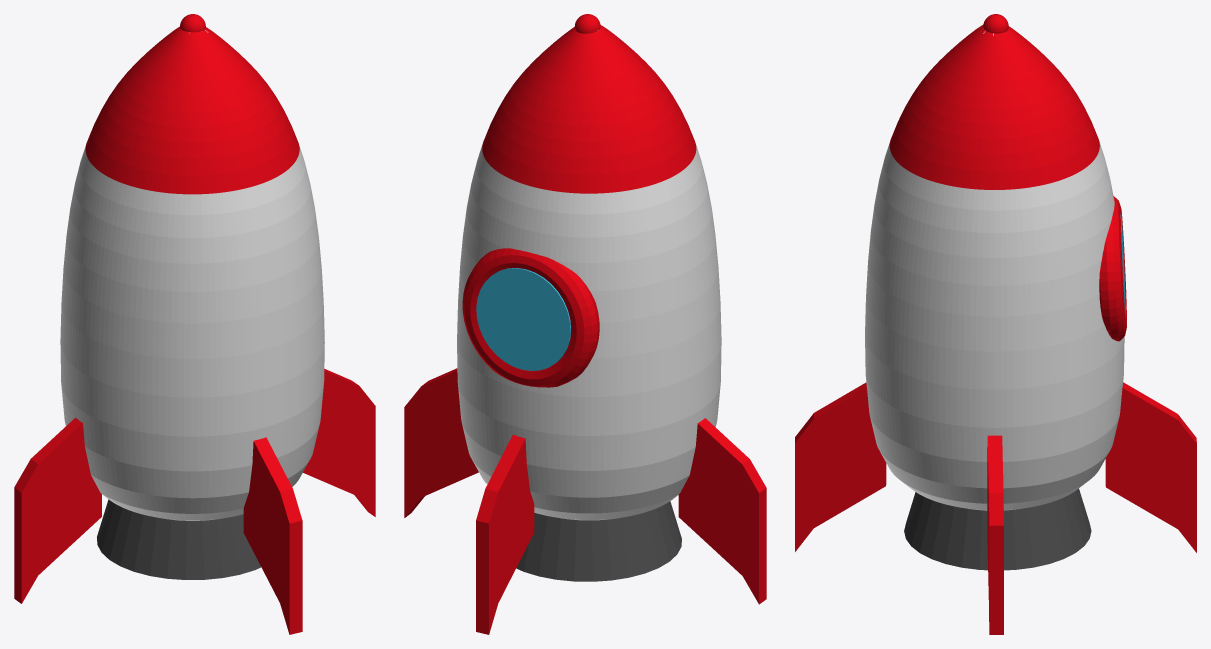
File: toyrocket.glb
3 renders of one model, left to right at view 1: azimuth 30°, elevation 25°; view 2: azimuth 150°, elevation 25°; view 3: azimuth 270°, elevation 25°, orthographic.
Visible parts, largest first — view 1: Círculo, Cubo, Cilindro, Cubo.003, Cubo.001; view 2: Círculo, Cubo, Cilindro, Cilindro.001, Rosca, Cubo.002, Cubo.001; view 3: Círculo, Cilindro, Cubo.002, Cubo.003, Cubo.001, Rosca.
Boxes of the visible parts, x1,y1,x2,y2 form: Círculo: (60,26,324,520); Cubo: (14,417,101,603); Cilindro: (97,499,260,579); Cubo.003: (243,437,302,634); Cubo.001: (303,369,375,516); Círculo: (457,25,721,520); Cubo: (678,418,766,604); Cilindro: (516,501,681,581); Cilindro.001: (476,268,570,370); Rosca: (462,248,599,387); Cubo.002: (476,434,534,634); Cubo.001: (404,368,478,517); Círculo: (865,25,1124,510); Cilindro: (904,488,1091,570); Cubo.002: (1105,382,1196,552); Cubo.003: (795,382,886,551); Cubo.001: (987,435,1003,634); Rosca: (1099,196,1126,341).
Bounding box in the file's own units: 6.66 × 9.77 × 6.66.
